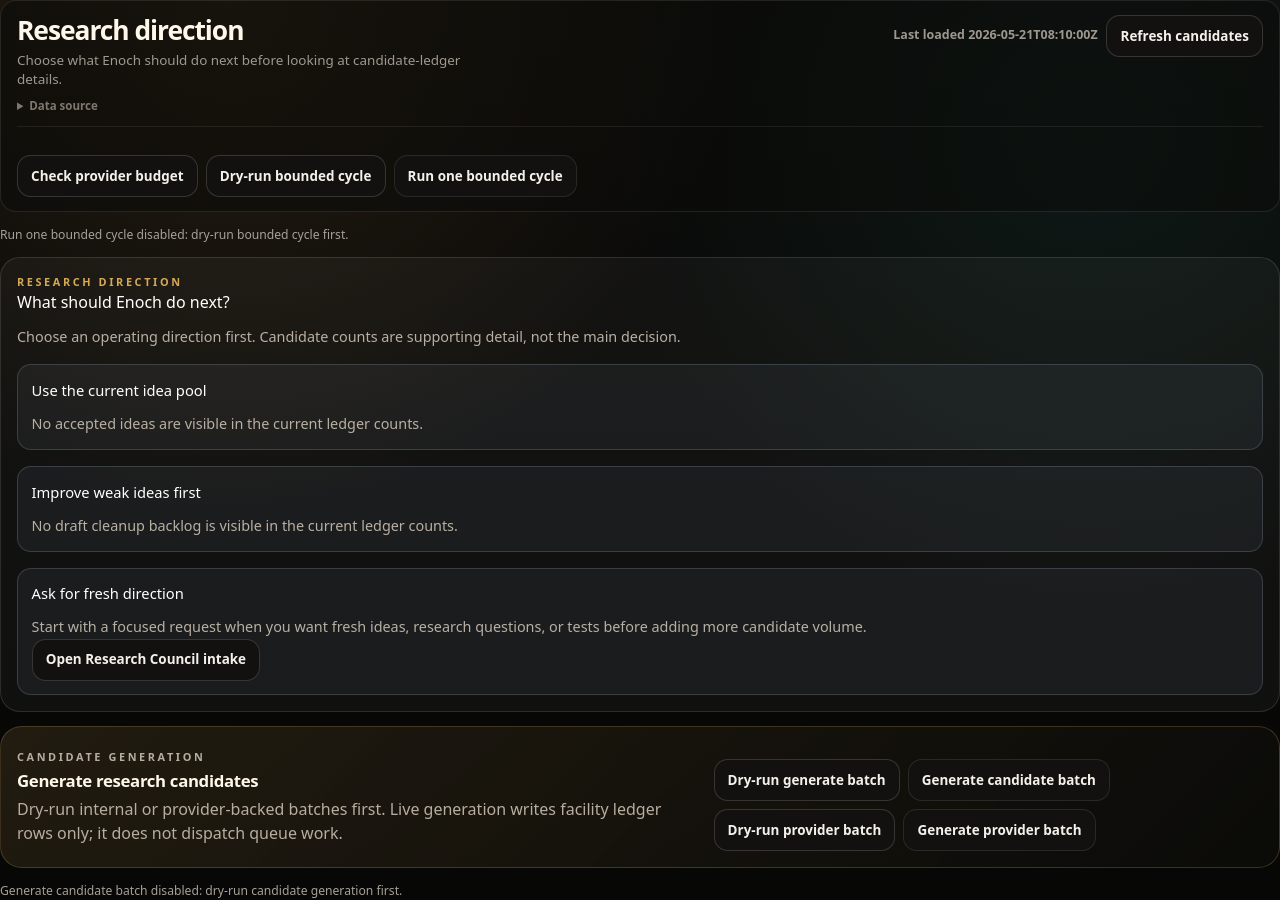
Test: invalidates bounded-cycle live authorization when facility state changes
The width and height of the screenshot is (1280, 900).
Click the button "Dry-run bounded cycle".
click(296, 176)  # box [206,155,386,197]
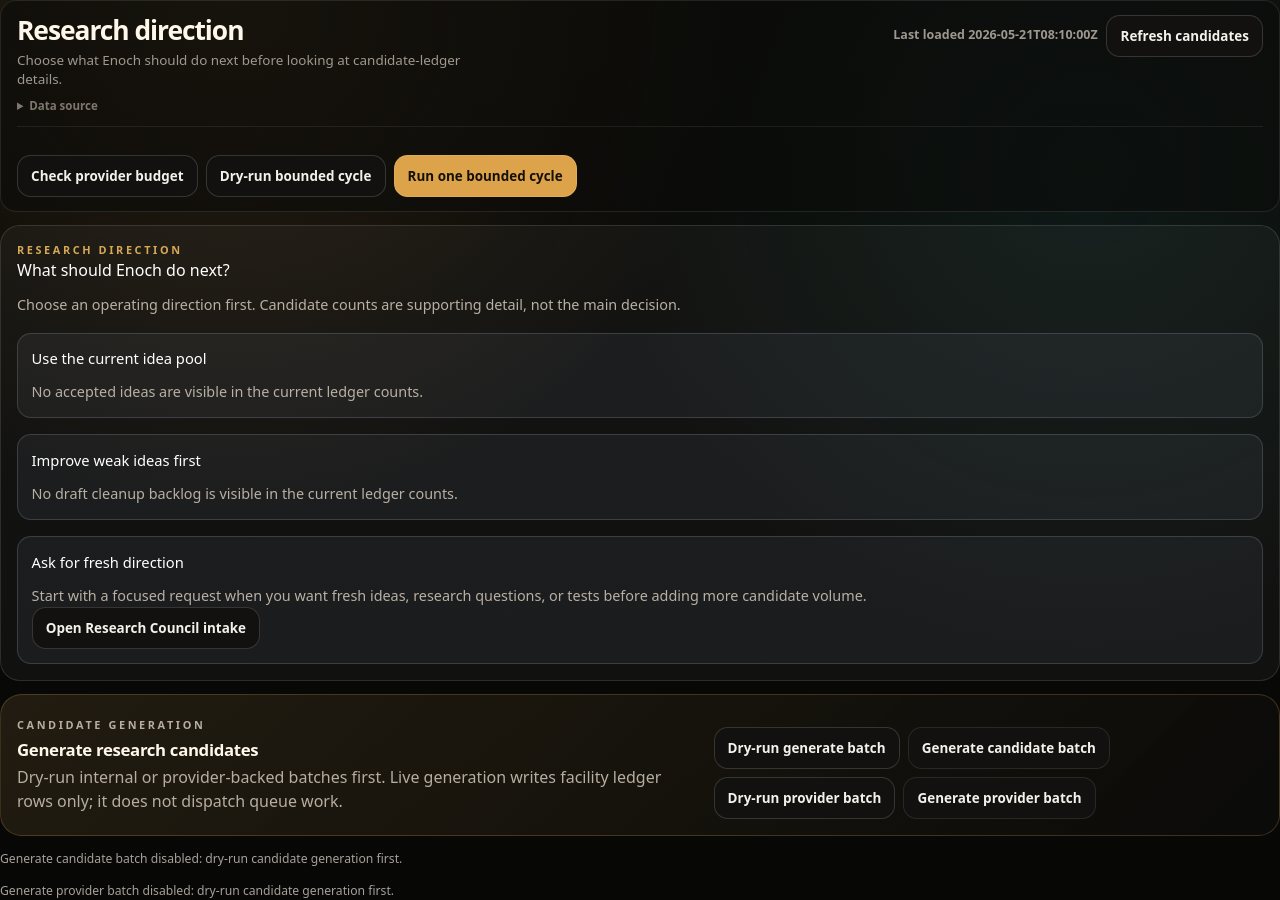
Now the button "Run one bounded cycle" is enabled, box [394,155,577,197]
Click the button "Refresh candidates".
click(1185, 36)  # box [1106,15,1263,57]
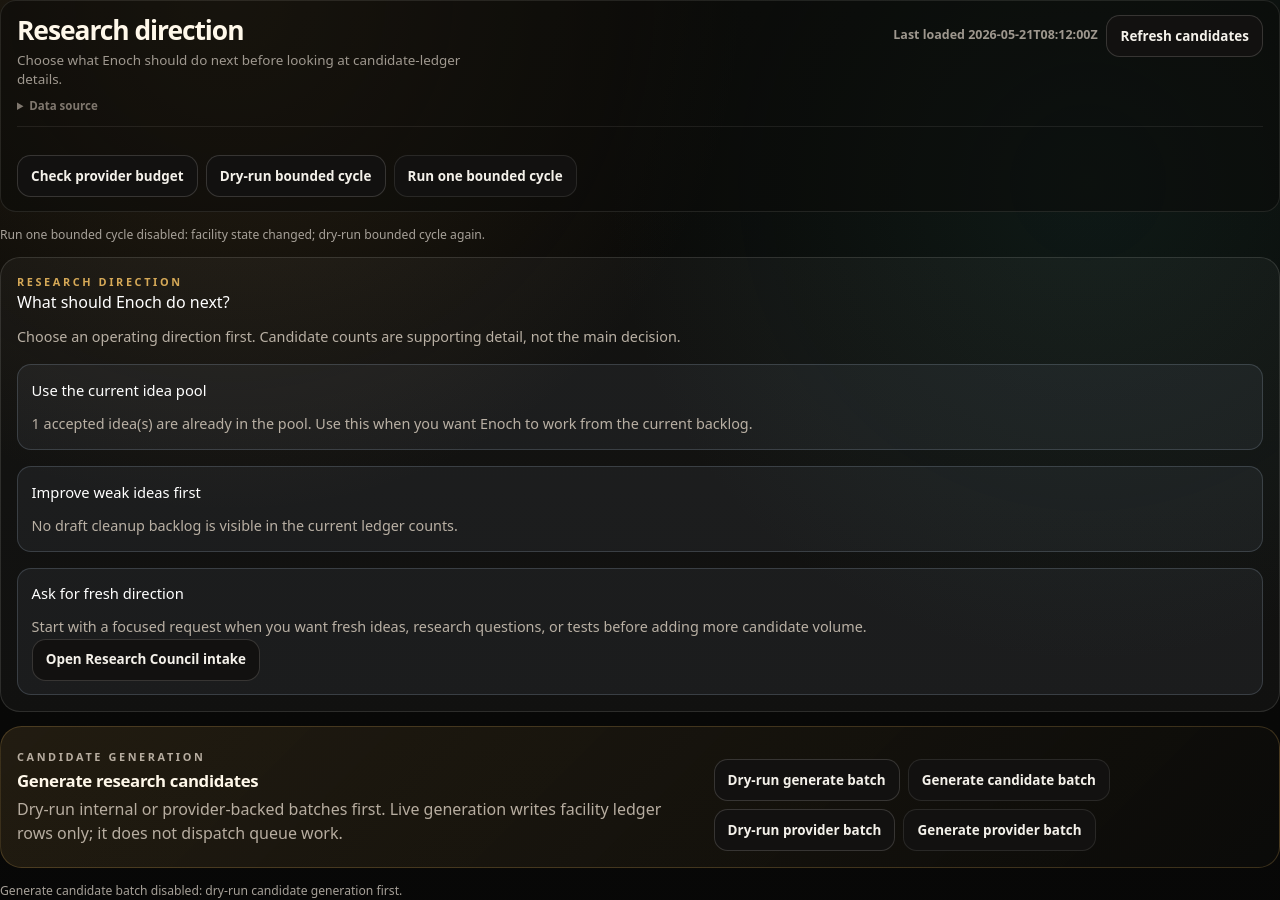
Now the button "Run one bounded cycle" is disabled, box [394,155,577,197]
Now the text "Run one bounded cycle disabled: facility state changed; dry-run bounded cycle again." is shown, box [0,226,485,243]
